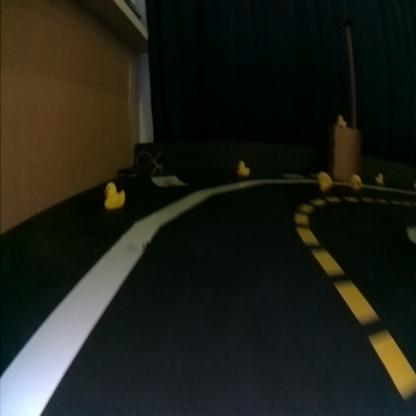Duckie: (104, 182, 127, 208), (317, 172, 332, 188), (237, 160, 251, 176), (351, 174, 363, 188), (337, 114, 347, 124), (377, 173, 385, 181)
QR code: (150, 174, 186, 187)
